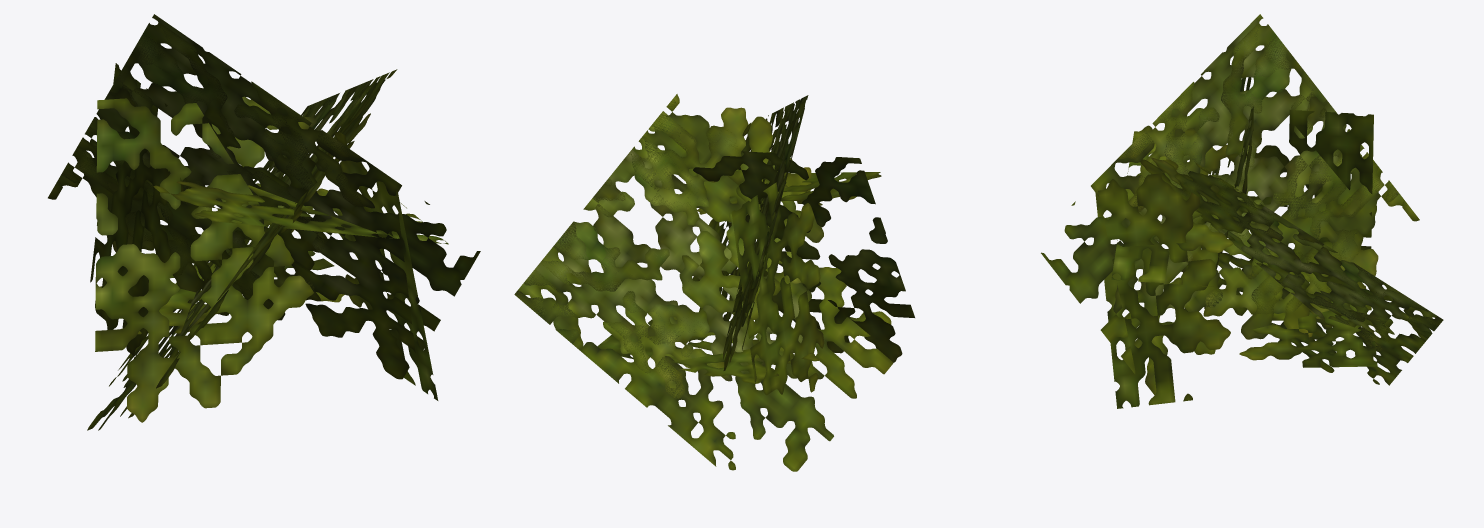
Rendered from chestnut_leaves_yellowish_vertical_slab.obj.
The picture shows the model from 3 angles, left to right: view 1: azimuth 30°, elevation 25°; view 2: azimuth 150°, elevation 25°; view 3: azimuth 270°, elevation 25°; orthographic projection. The views are drawn at different scales.
Visible parts, largest first — view 1: cube; view 2: cube; view 3: cube.
Boxes of the visible parts, x1,y1,x2,y2 form: cube: (48, 14, 480, 430); cube: (514, 94, 914, 471); cube: (1041, 14, 1443, 408).
Size of the model in its own units: 2.25 by 2.85 by 2.69.
